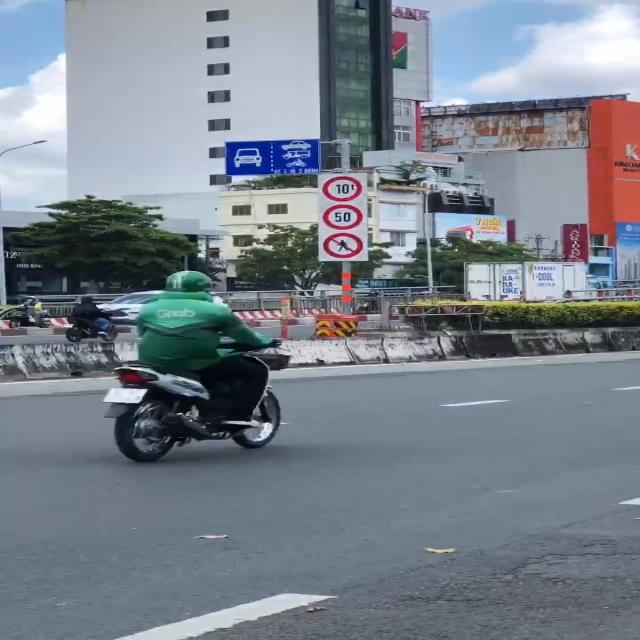Bien bao cam nguoi di bo: (321, 232, 367, 259)
Bien bao toc do toi da cho phep: (317, 203, 366, 230)
